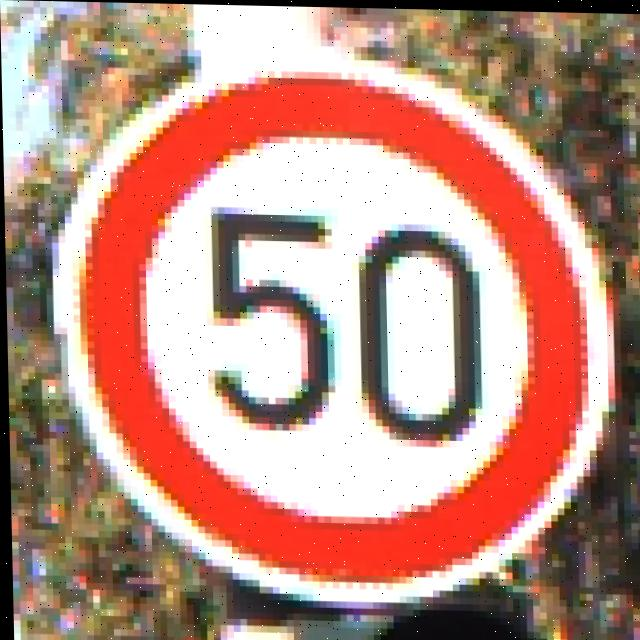speed_limit_50: (73, 65, 611, 594)
